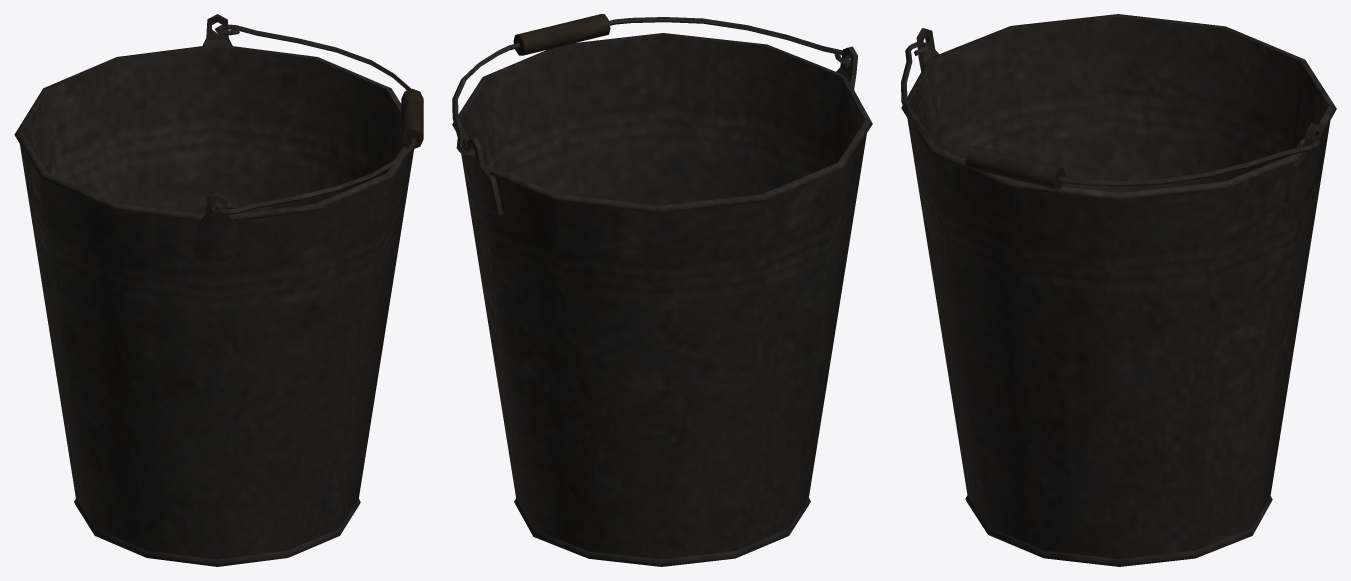
File: bucket_mx_2.obj
The picture shows the model from 3 angles, left to right: view 1: azimuth 30°, elevation 25°; view 2: azimuth 150°, elevation 25°; view 3: azimuth 270°, elevation 25°; orthographic projection. The views are drawn at different scales.
Visible parts, largest first — view 1: bucket_mx_2; view 2: bucket_mx_2; view 3: bucket_mx_2.
Part boxes in pixels (x1,y1,x2,y2): bucket_mx_2: [14, 14, 423, 566]; bucket_mx_2: [452, 14, 872, 566]; bucket_mx_2: [901, 14, 1336, 566].
Bounding box in the file's own units: 0.4314 × 0.4651 × 0.43.
